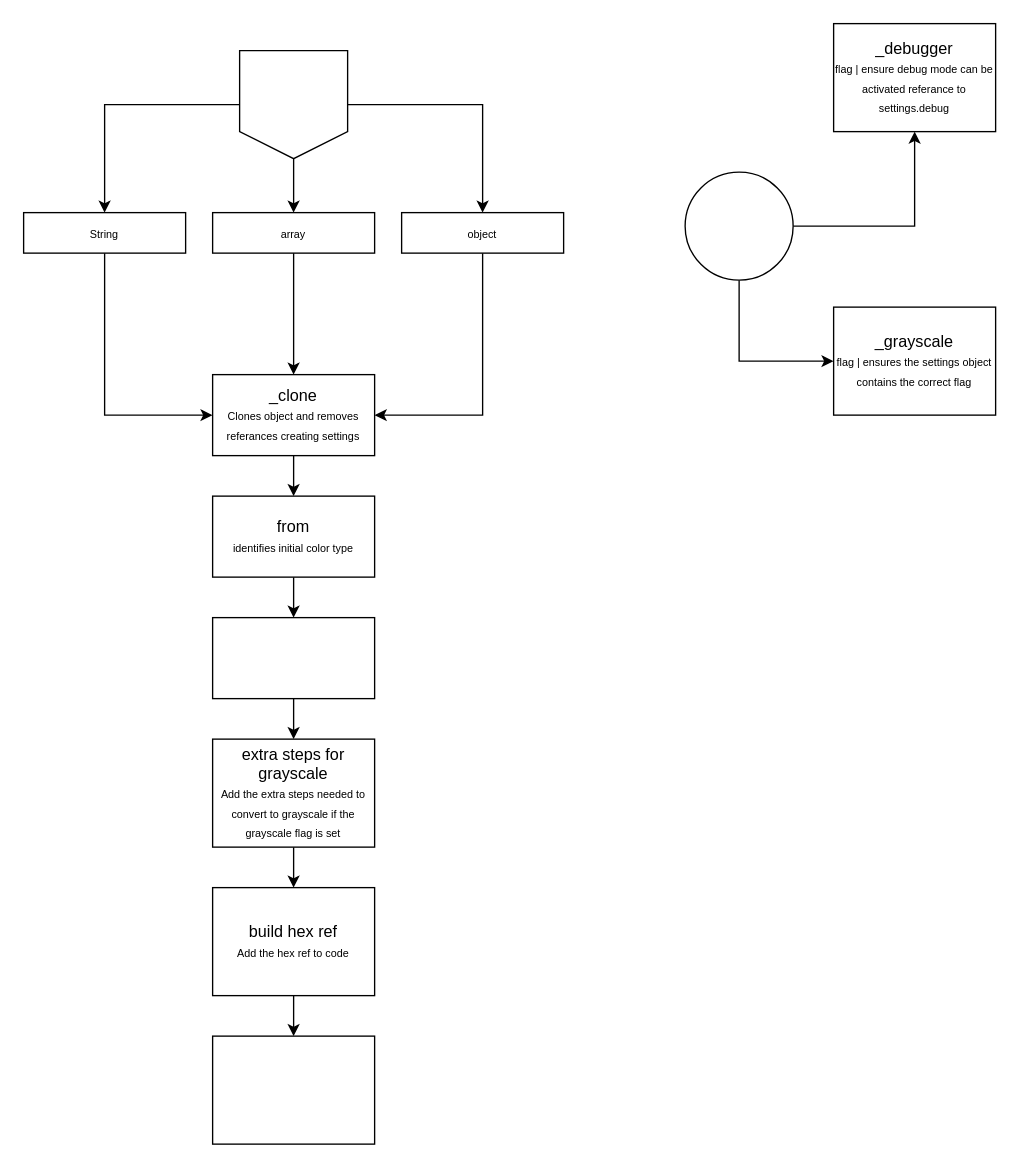
This 1019x1168 diagram has some shape labels left out. The shapes that lost their labels are listed below. From the top down, each one's centre as x and y in pixels, then its label:
At point 293,104: "input object data".
At point 738,225: "getters".
At point 293,657: "to Identifies the type of the color that we need to convert to".
At point 293,1089: "cleanUp clean dead code from output object if dev is not set".
